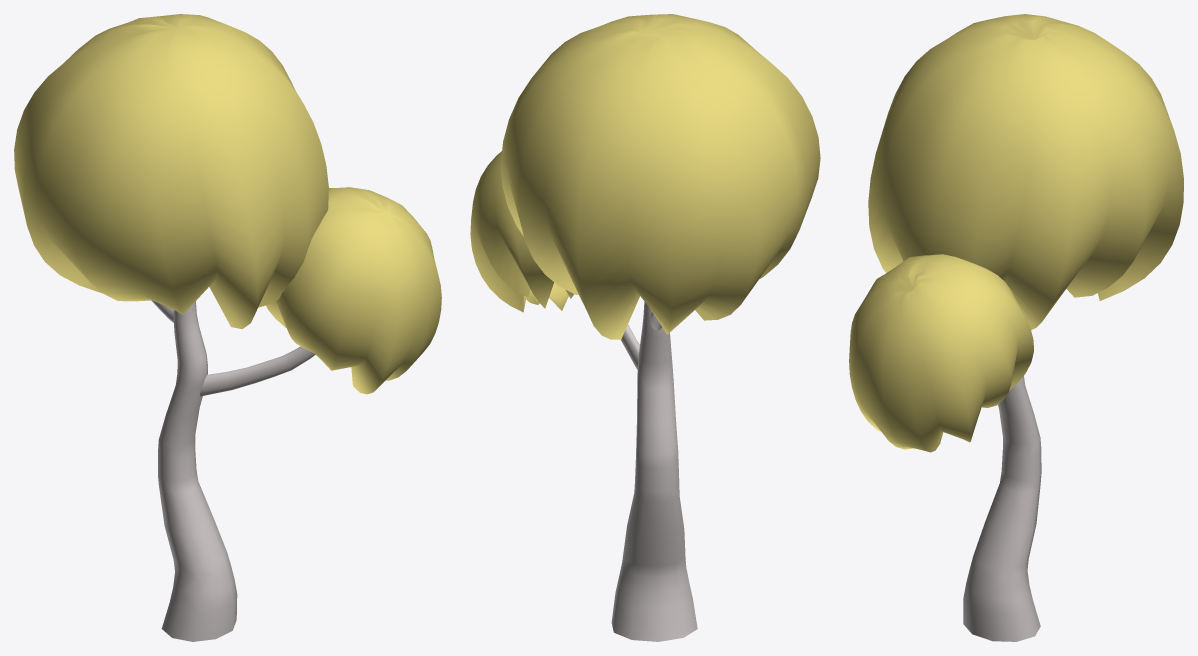
File: yellow_tree.fbx
3 views of the same model, side by side, from view 1: azimuth 30°, elevation 25°; view 2: azimuth 150°, elevation 25°; view 3: azimuth 270°, elevation 25° (orthographic). The views are drawn at different scales.
Parts seen in each view (by area): view 1: yt_01_leaves, yt01_branches2, yt01_branches1; view 2: yt_01_leaves, yt01_branches2; view 3: yt_01_leaves, yt01_branches2.
Part boxes in pixels (box(x1,y1,x2,y2)): yt_01_leaves: box(14, 14, 441, 394); yt01_branches2: box(158, 301, 237, 641); yt01_branches1: box(200, 346, 315, 396); yt_01_leaves: box(470, 14, 820, 339); yt01_branches2: box(611, 301, 697, 641); yt_01_leaves: box(849, 14, 1183, 452); yt01_branches2: box(963, 376, 1041, 641).
Bounding box in the file's own units: 23.74 × 38.44 × 19.82.
